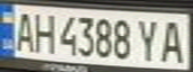3: (75, 14, 96, 58)
4: (54, 11, 78, 56)
8: (112, 16, 136, 61), (93, 15, 115, 60)
A: (157, 16, 187, 64), (9, 8, 36, 53)
H: (30, 9, 57, 55)
Y: (133, 16, 163, 62)
